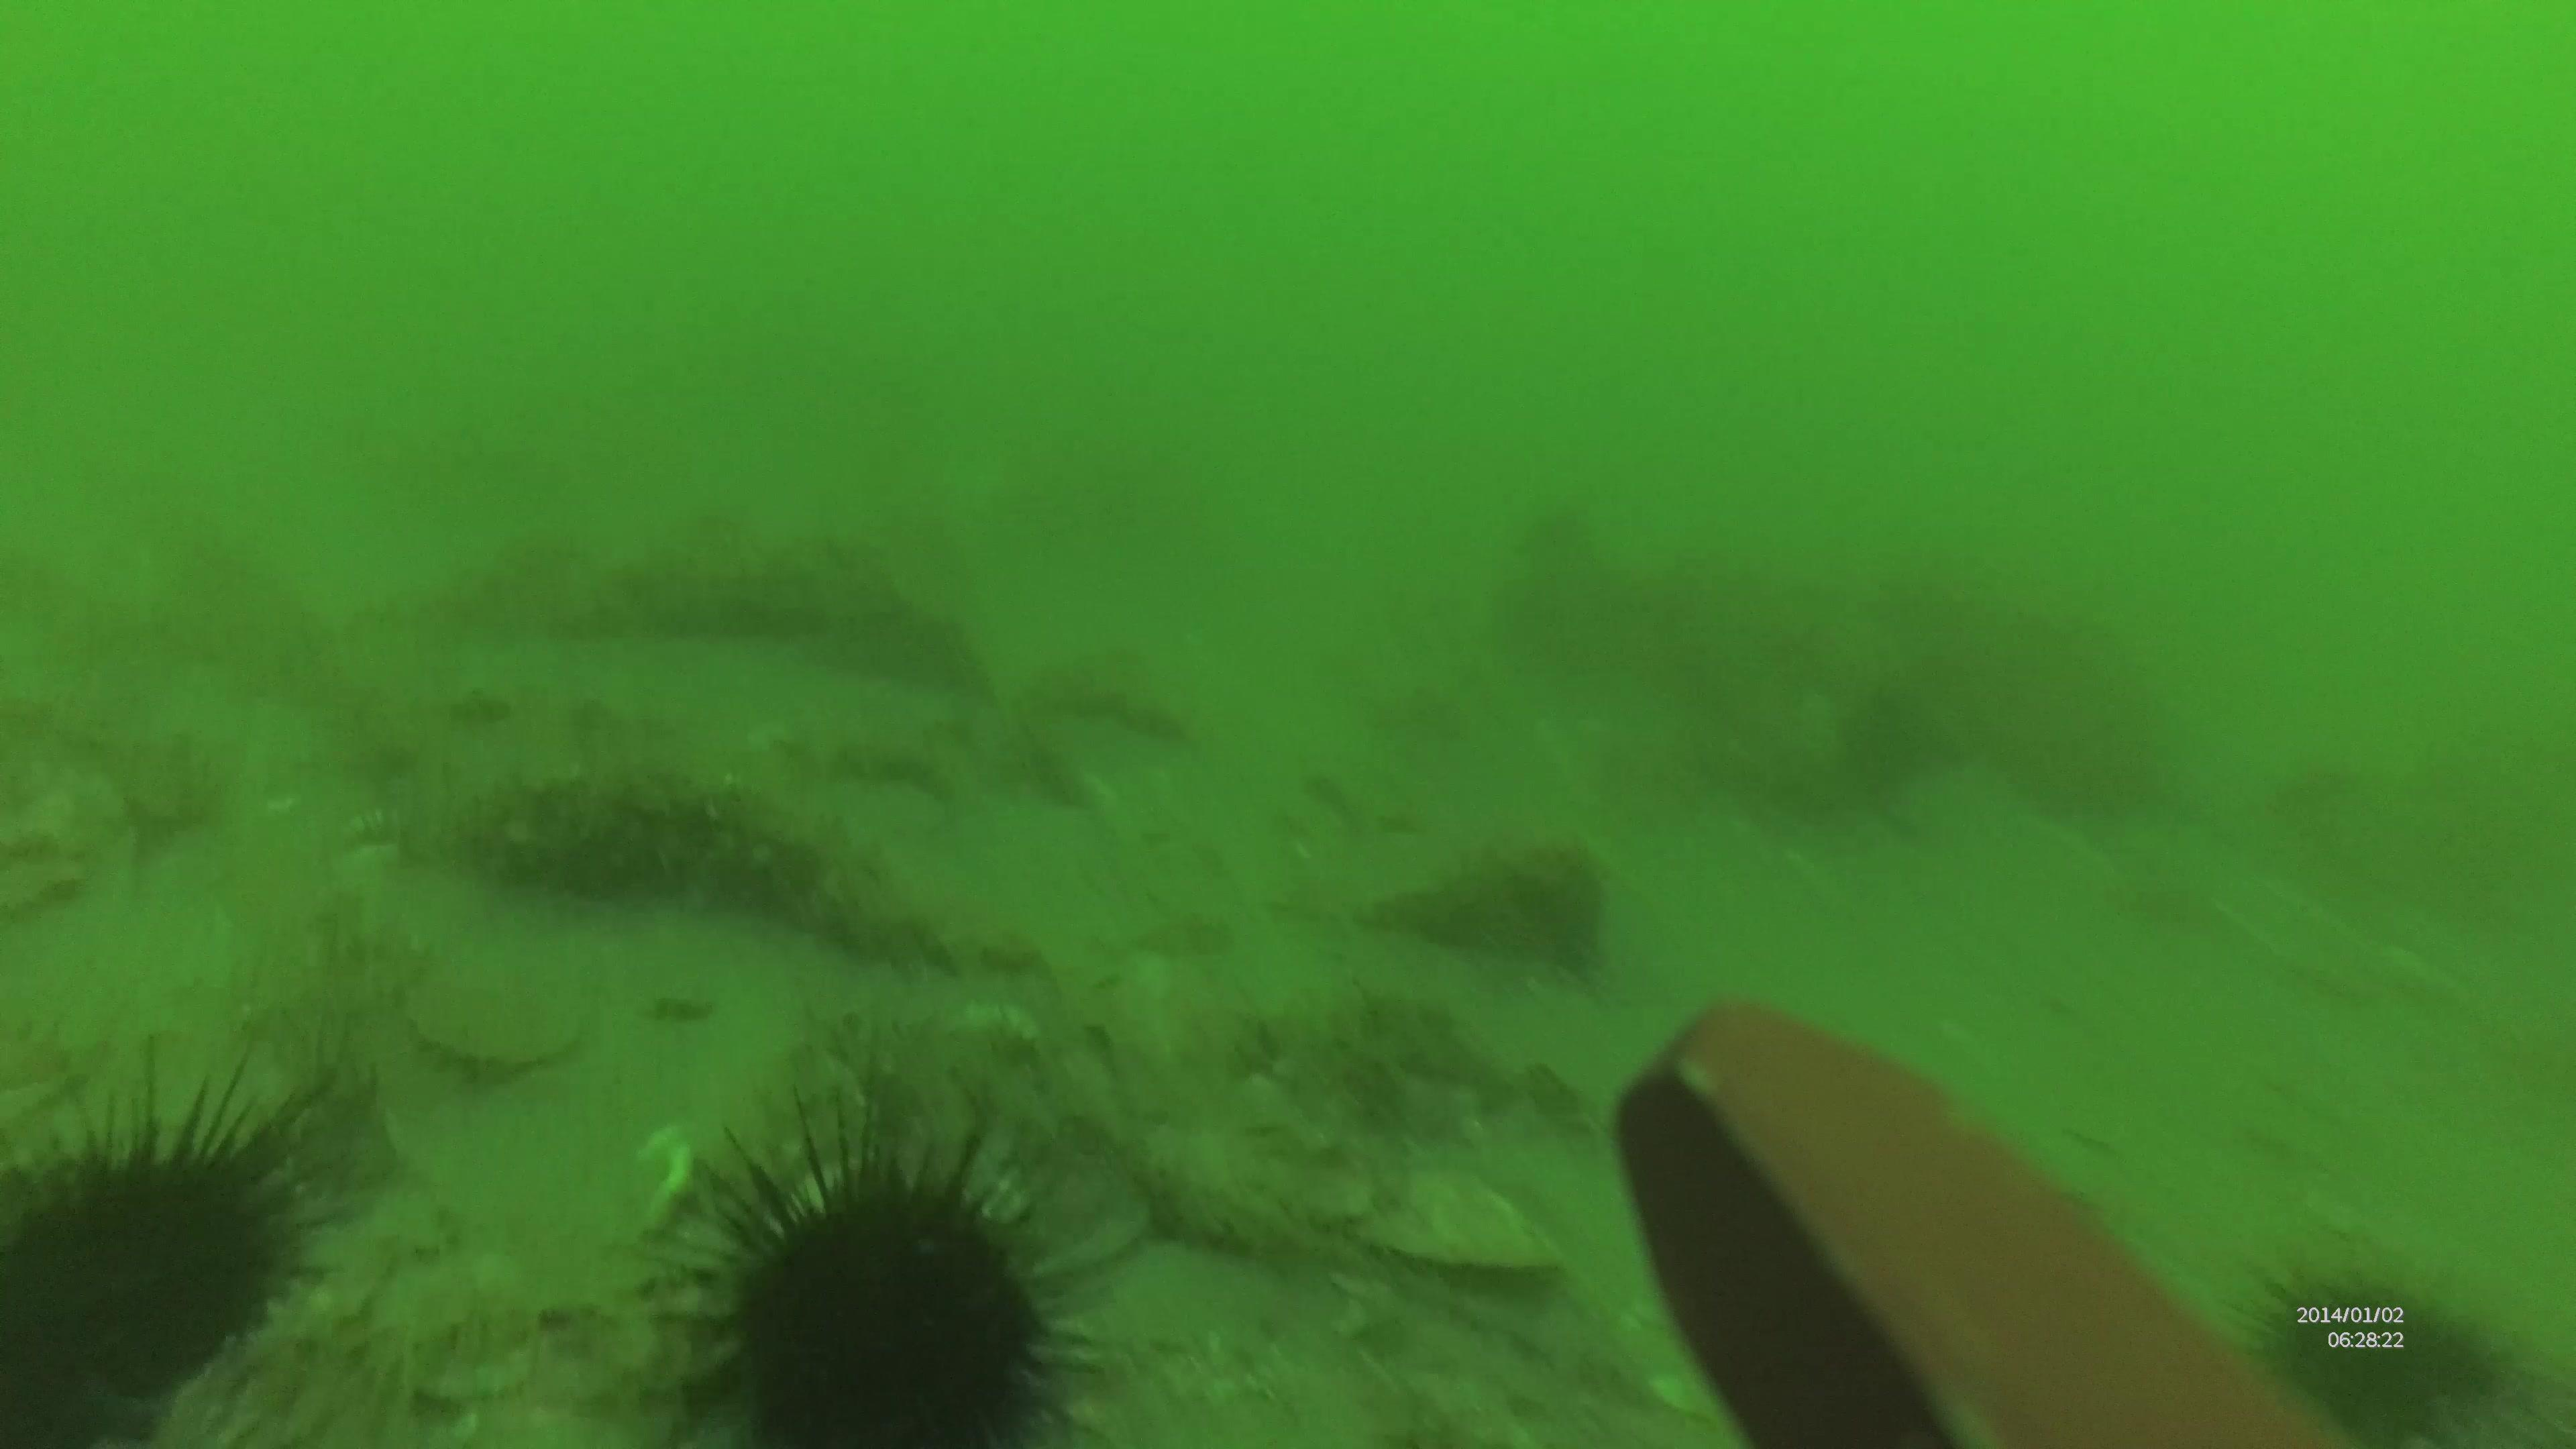echinus: (628, 1077, 1132, 1449), (0, 1040, 354, 1445), (2222, 1249, 2509, 1449)
holothurian: (453, 759, 1039, 977)
